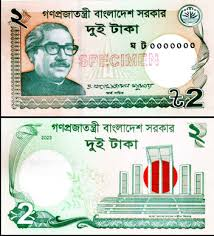2_taka: (8, 124, 207, 227), (12, 8, 208, 111)
